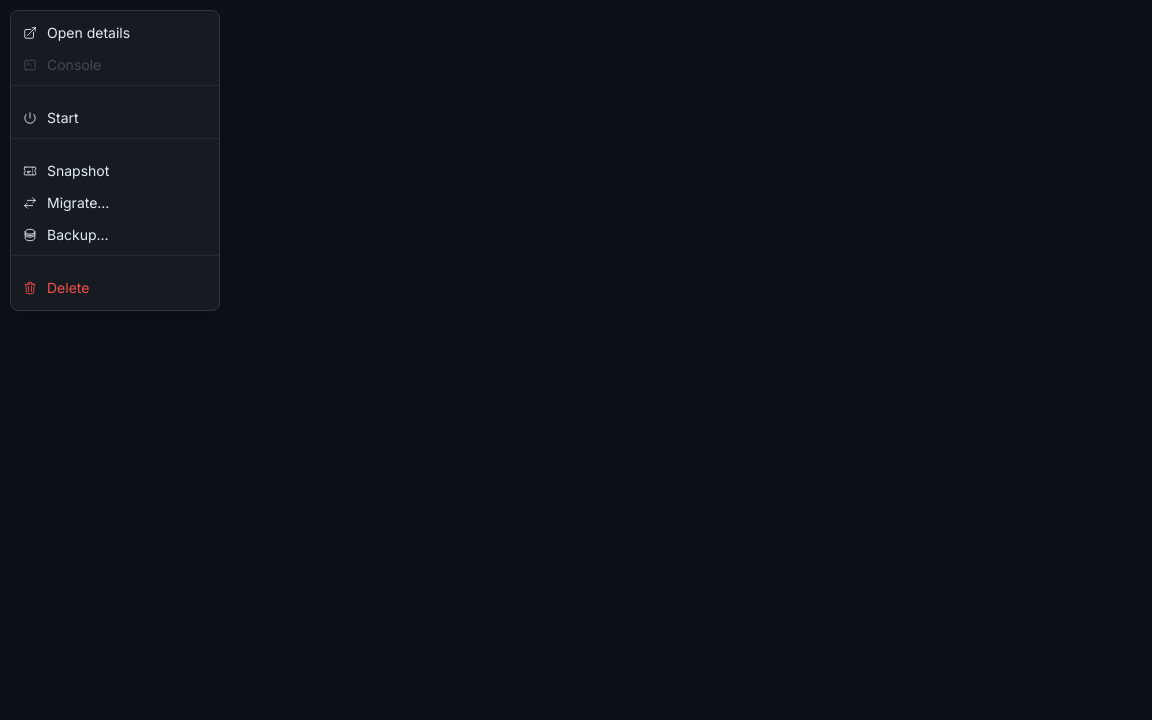
Test: ResourceContextMenu (StrictMode=true) › LXC migrate opens its modal
Click the menu item "Migrate…": (115, 203) x1=11 y1=187 x2=219 y2=219
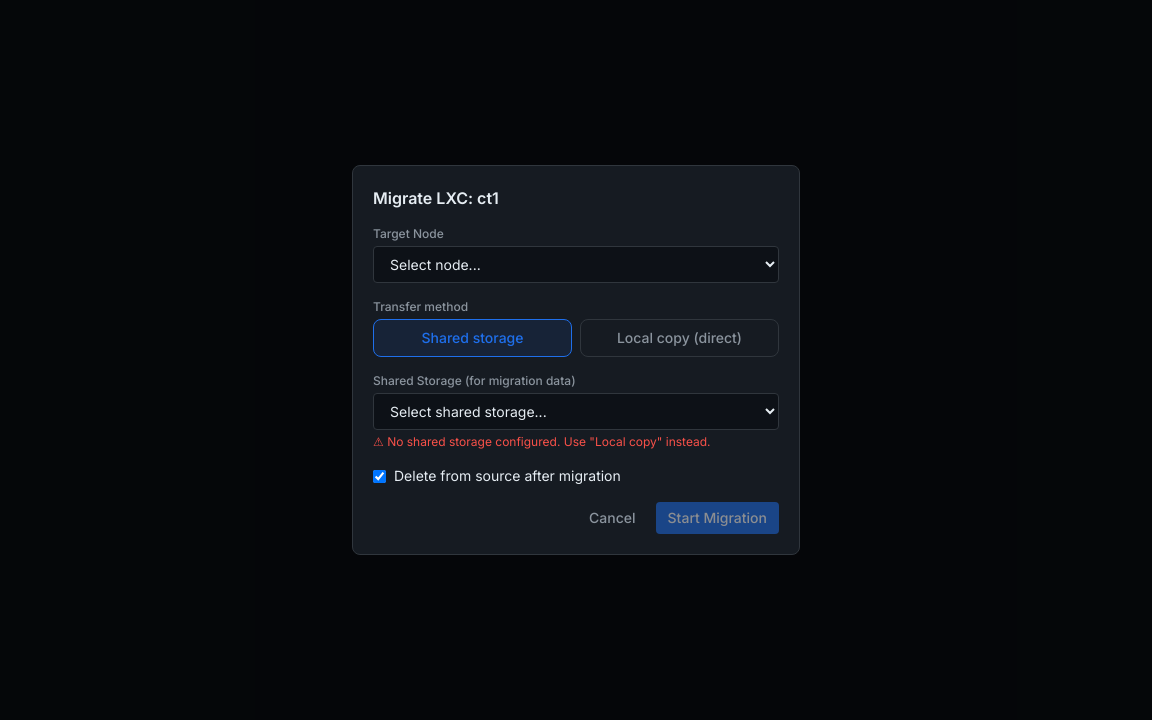
Check: the heading "Migrate LXC: ct1" is shown, box x1=373 y1=188 x2=499 y2=208
